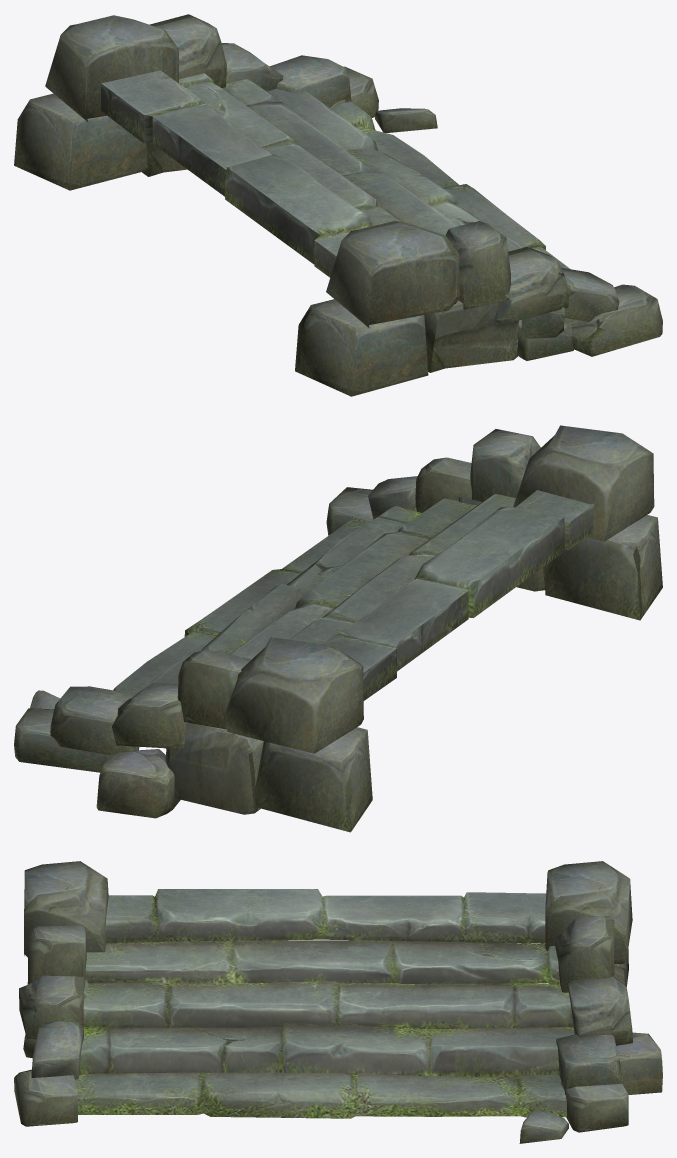
Rendered from wlf_jieti01_w.FBX.
3 renders of one model, top to bottom at view 1: azimuth 30°, elevation 25°; view 2: azimuth 150°, elevation 25°; view 3: azimuth 270°, elevation 25°, orthographic. The views are drawn at different scales.
Visible parts, largest first — view 1: wlf_jieti01_w; view 2: wlf_jieti01_w; view 3: wlf_jieti01_w.
Boxes of the visible parts, bbox=[...] form: wlf_jieti01_w: bbox=[14, 14, 662, 396]; wlf_jieti01_w: bbox=[14, 425, 662, 832]; wlf_jieti01_w: bbox=[14, 861, 662, 1143].
Bounding box in the file's own units: 31.64 × 12.89 × 52.35.
